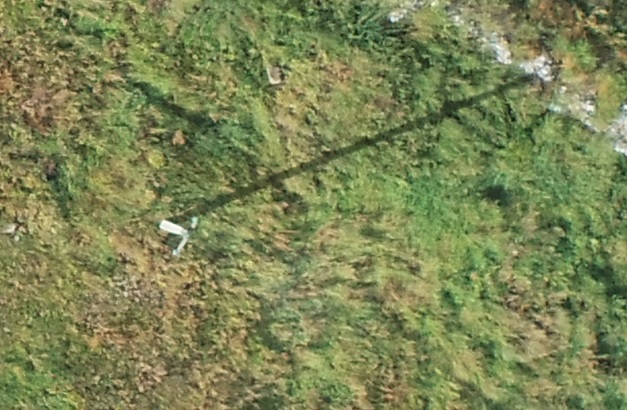opora: (158, 196, 225, 257)
